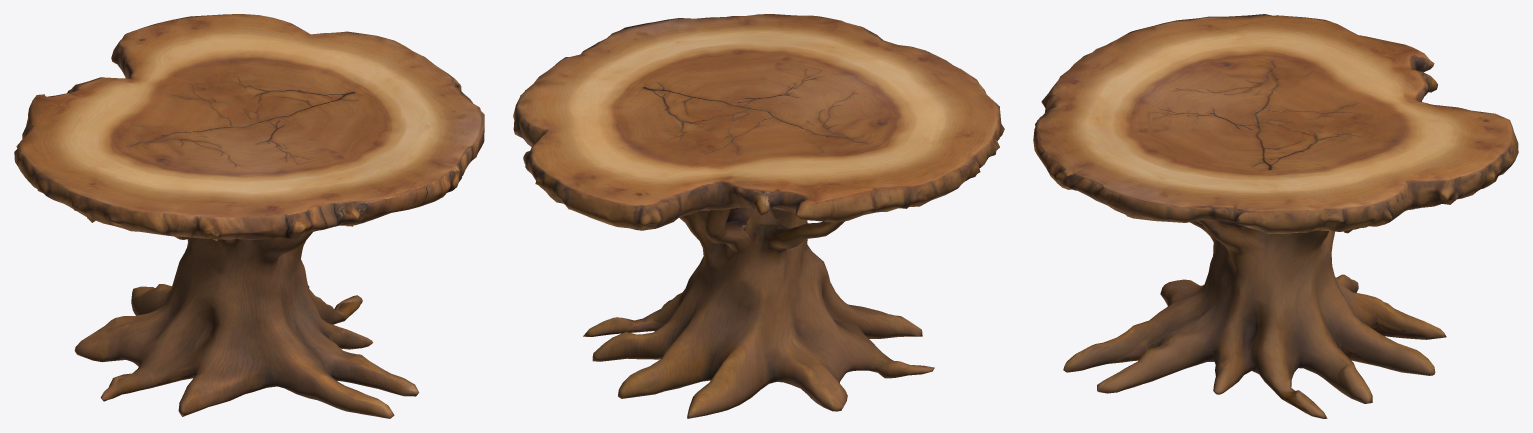
The model's file is Meshy_AI_TREE_TABLE_0301170655_texture.glb.
The picture shows the model from 3 angles, left to right: view 1: azimuth 30°, elevation 25°; view 2: azimuth 150°, elevation 25°; view 3: azimuth 270°, elevation 25°; orthographic projection.
Size of the model in its own units: 1.97 by 1.07 by 1.99.
Materials: 1 (1 with a texture image).
